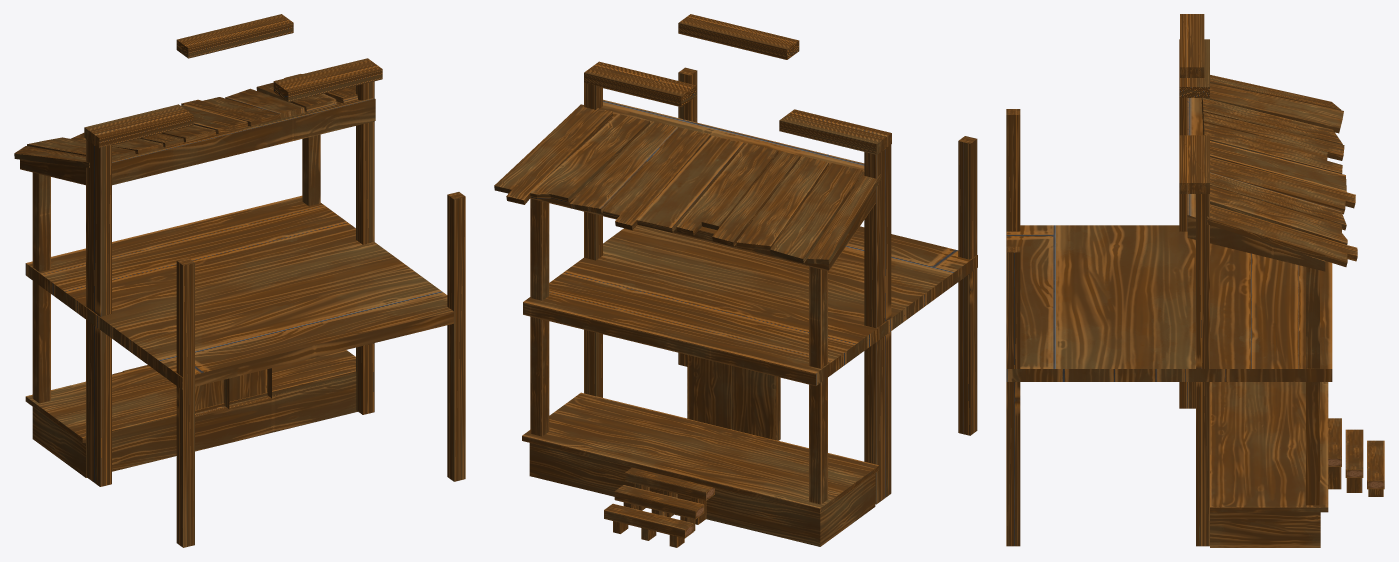
3 views of the same model, side by side, from view 1: azimuth 30°, elevation 25°; view 2: azimuth 150°, elevation 25°; view 3: azimuth 270°, elevation 25° (orthographic). The views are drawn at different scales.
Visible parts, largest first — view 1: Cube.034; view 2: Cube.034; view 3: Cube.034.
Part boxes in pixels (box(x1,y1,x2,y2)): Cube.034: box(14, 14, 465, 547); Cube.034: box(494, 14, 977, 547); Cube.034: box(1006, 14, 1384, 547).
Bounding box in the file's own units: 546 × 700 × 544.
